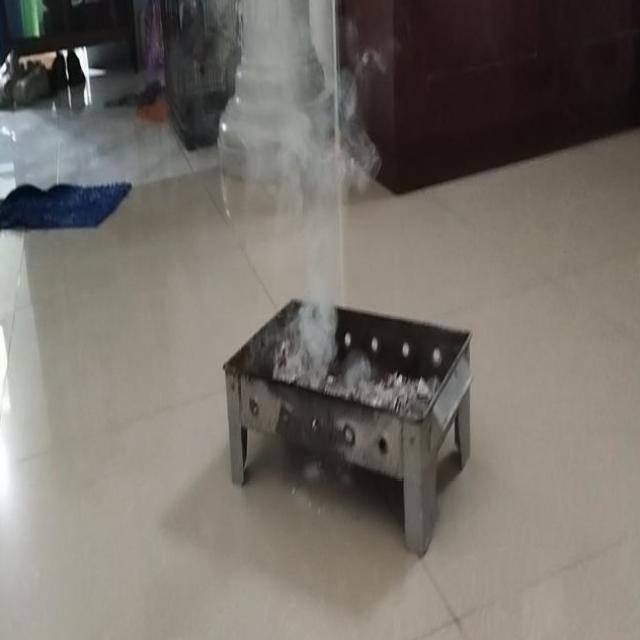fire: (242, 8, 382, 197), (278, 193, 347, 350)
